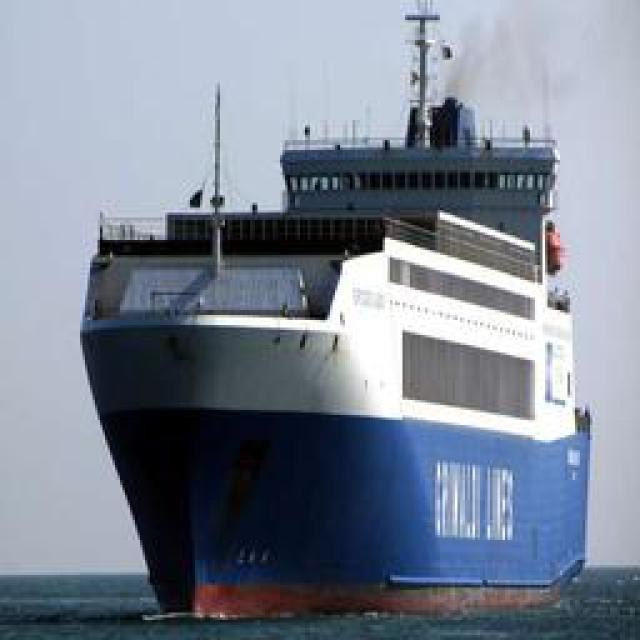Ship: (69, 1, 606, 628)
